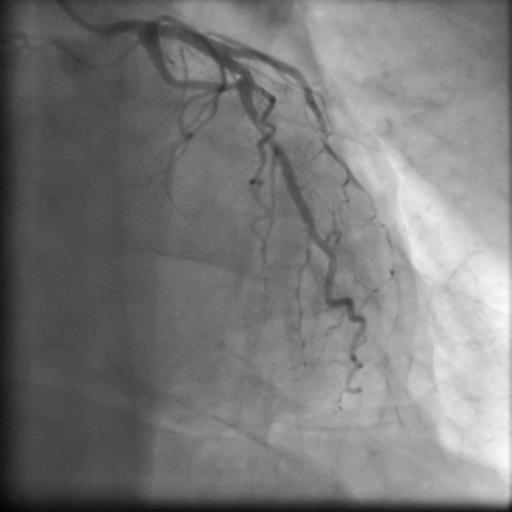Stenosis: (219, 75, 247, 93)
